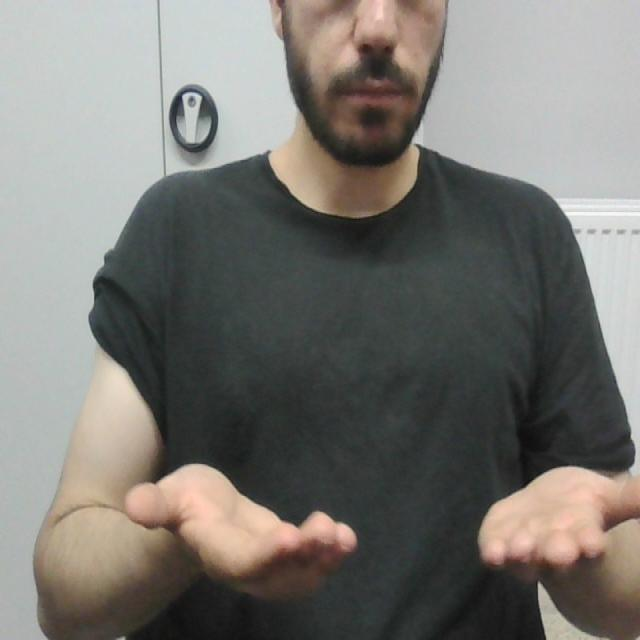Evet: (123, 458, 640, 609)
